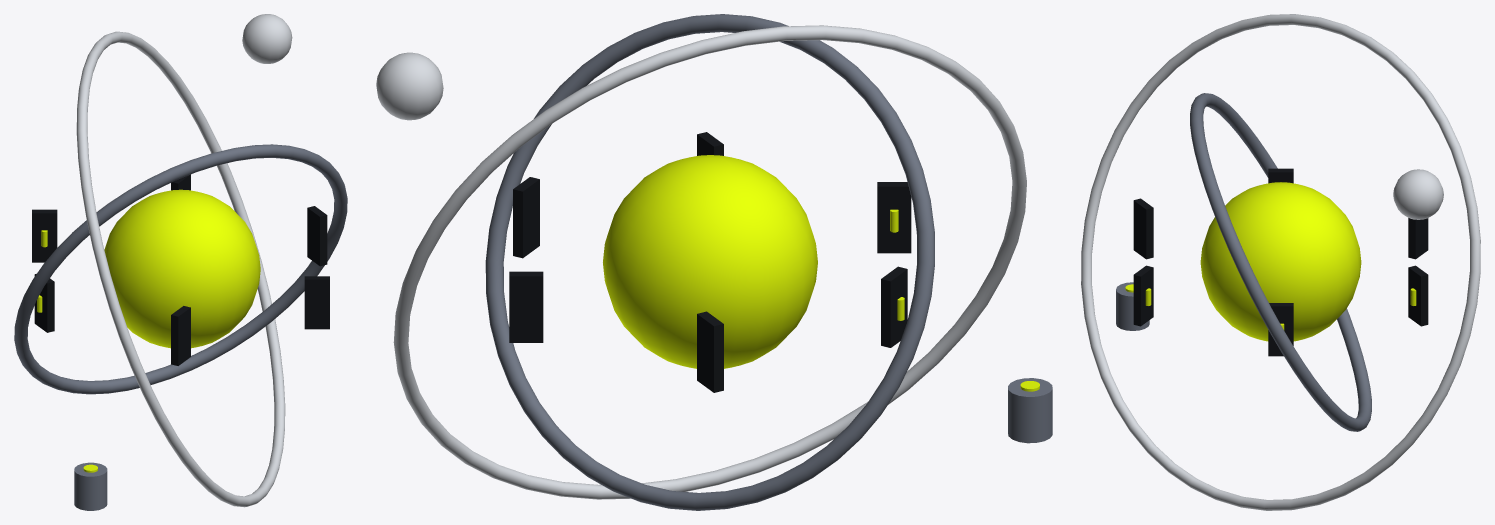
The model's file is neural-artifact.glb.
3 renders of one model, left to right at view 1: azimuth 30°, elevation 25°; view 2: azimuth 150°, elevation 25°; view 3: azimuth 270°, elevation 25°, orthographic. The views are drawn at different scales.
Parts seen in each view (by area): view 1: Mesh_CoreNucleus, Mesh_GimbalRing_Inner, Mesh_GimbalRing_Outer, Mesh_Sat1_Body, Mesh_Sat2_Body, Mesh_Blade_2, Mesh_Blade_5, Mesh_Blade_1, Mesh_Blade_3, Mesh_Blade_4; view 2: Mesh_CoreNucleus, Mesh_GimbalRing_Inner, Mesh_GimbalRing_Outer, Mesh_Sat1_Body, Mesh_Sat2_Body, Mesh_Blade_6, Mesh_Blade_3, Mesh_Blade_5, Mesh_Blade_1, Mesh_Blade_4; view 3: Mesh_CoreNucleus, Mesh_GimbalRing_Outer, Mesh_GimbalRing_Inner, Mesh_Sat1_Body, Mesh_Blade_3, Mesh_Blade_2, Mesh_Blade_6, Mesh_Sat2_Body, Mesh_Blade_1, Mesh_Blade_5.
Part boxes in pixels (left/top/right/bottom): Mesh_CoreNucleus: left=104, top=189, right=260, bottom=348; Mesh_GimbalRing_Inner: left=14, top=144, right=347, bottom=394; Mesh_GimbalRing_Outer: left=76, top=31, right=285, bottom=507; Mesh_Sat1_Body: left=242, top=14, right=292, bottom=63; Mesh_Sat2_Body: left=74, top=462, right=107, bottom=510; Mesh_Blade_2: left=304, top=276, right=329, bottom=329; Mesh_Blade_5: left=32, top=209, right=57, bottom=262; Mesh_Blade_1: left=307, top=206, right=327, bottom=266; Mesh_Blade_3: left=171, top=306, right=190, bottom=365; Mesh_Blade_4: left=34, top=274, right=54, bottom=332; Mesh_CoreNucleus: left=603, top=155, right=817, bottom=368; Mesh_GimbalRing_Inner: left=485, top=14, right=934, bottom=510; Mesh_GimbalRing_Outer: left=393, top=25, right=1026, bottom=499; Mesh_Sat1_Body: left=376, top=52, right=443, bottom=120; Mesh_Sat2_Body: left=1008, top=378, right=1052, bottom=443; Mesh_Blade_6: left=509, top=271, right=543, bottom=342; Mesh_Blade_3: left=877, top=182, right=911, bottom=253; Mesh_Blade_5: left=697, top=311, right=723, bottom=392; Mesh_Blade_1: left=513, top=177, right=539, bottom=258; Mesh_Blade_4: left=881, top=266, right=907, bottom=347; Mesh_CoreNucleus: left=1200, top=182, right=1361, bottom=341; Mesh_GimbalRing_Outer: left=1081, top=14, right=1480, bottom=510; Mesh_GimbalRing_Inner: left=1190, top=93, right=1371, bottom=431; Mesh_Sat1_Body: left=1393, top=169, right=1443, bottom=219; Mesh_Blade_3: left=1133, top=198, right=1153, bottom=259; Mesh_Blade_2: left=1133, top=265, right=1153, bottom=326; Mesh_Blade_6: left=1408, top=265, right=1428, bottom=326; Mesh_Sat2_Body: left=1116, top=282, right=1149, bottom=330; Mesh_Blade_1: left=1268, top=303, right=1293, bottom=356; Mesh_Blade_5: left=1408, top=218, right=1428, bottom=259.
Bounding box in the file's own units: 1.95 × 2.18 × 1.89.
